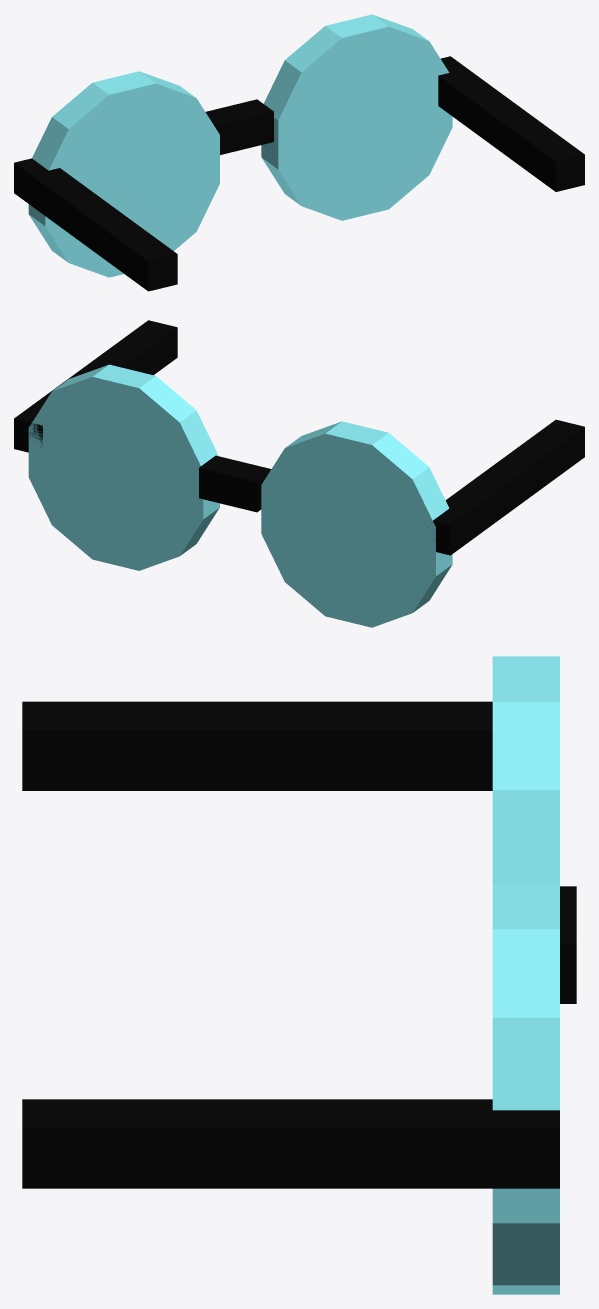
File: glass.obj
3 views of the same model, one above another, from view 1: azimuth 30°, elevation 25°; view 2: azimuth 150°, elevation 25°; view 3: azimuth 270°, elevation 25° (orthographic). The views are drawn at different scales.
Visible parts, largest first — view 1: cylinder, cuboid; view 2: cylinder, cuboid; view 3: cuboid, cylinder.
Part boxes in pixels (left/top/right/bottom): cylinder: left=28, top=14, right=452, bottom=277; cuboid: left=14, top=56, right=584, bottom=291; cylinder: left=28, top=364, right=452, bottom=627; cuboid: left=14, top=320, right=584, bottom=555; cuboid: left=22, top=701, right=576, bottom=1188; cylinder: left=492, top=656, right=559, bottom=1294.
Size of the model in its own units: 0.9375 by 0.375 by 0.5156.
1 material, 1 textured.
